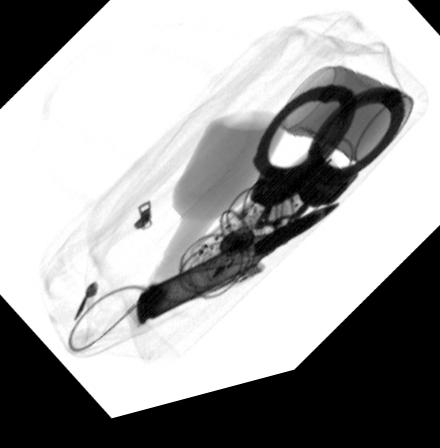Bullet: (135, 218, 340, 333)
HandCuffs: (246, 97, 404, 226)
